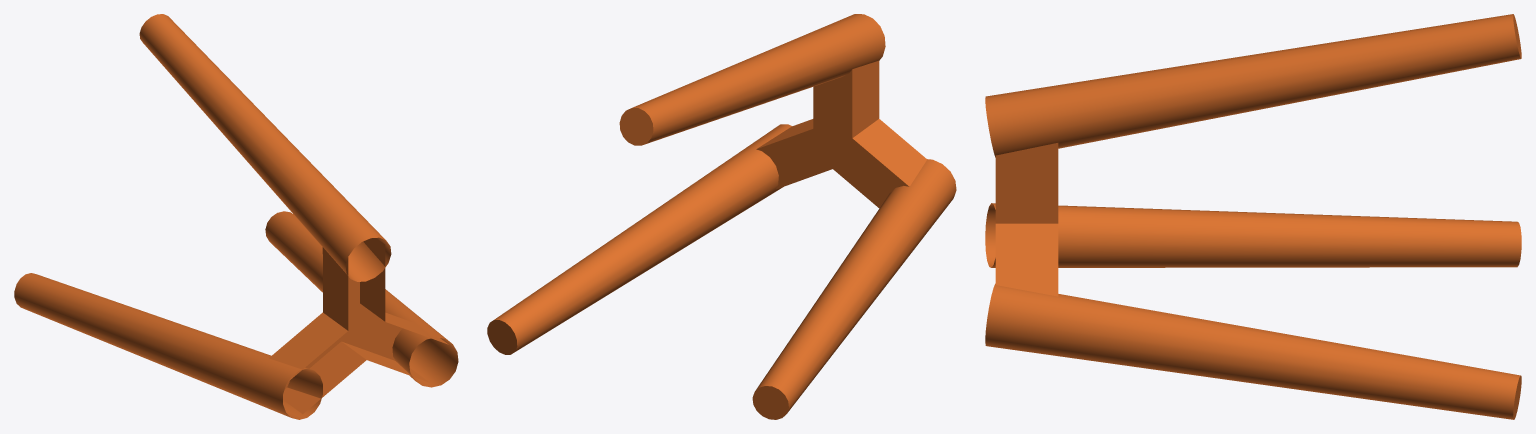
Rendered from MeshHouseplant_14_0_GeomSubset_1.obj.
3 renders of one model, left to right at view 1: azimuth 30°, elevation 25°; view 2: azimuth 150°, elevation 25°; view 3: azimuth 270°, elevation 25°, orthographic. The views are drawn at different scales.
Visible parts, largest first — view 1: MeshHouseplant_14_0_GeomSubset_1; view 2: MeshHouseplant_14_0_GeomSubset_1; view 3: MeshHouseplant_14_0_GeomSubset_1.
Part boxes in pixels (x1,y1,x2,y2): MeshHouseplant_14_0_GeomSubset_1: (14,14,458,419); MeshHouseplant_14_0_GeomSubset_1: (487,14,956,419); MeshHouseplant_14_0_GeomSubset_1: (985,14,1521,419).
Size of the model in its own units: 0.1418 by 0.125 by 0.1868.
